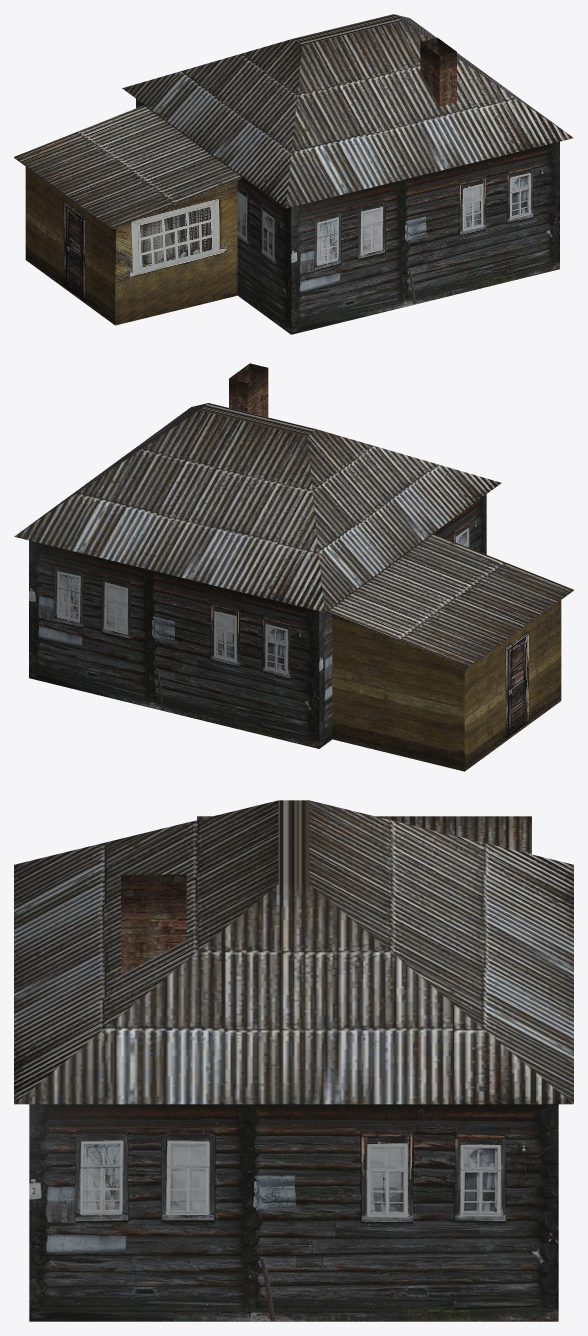
File: d_dom_1et_34.FBX
3 renders of one model, top to bottom at view 1: azimuth 30°, elevation 25°; view 2: azimuth 150°, elevation 25°; view 3: azimuth 270°, elevation 25°, orthographic. The views are drawn at different scales.
Parts seen in each view (by area): view 1: d_dom_1et_34; view 2: d_dom_1et_34; view 3: d_dom_1et_34.
Part boxes in pixels (<box>): d_dom_1et_34: <box>14,14,573,334</box>; d_dom_1et_34: <box>14,363,573,771</box>; d_dom_1et_34: <box>14,800,573,1321</box>.
Bounding box in the file's own units: 10.68 × 7.44 × 5.41.
